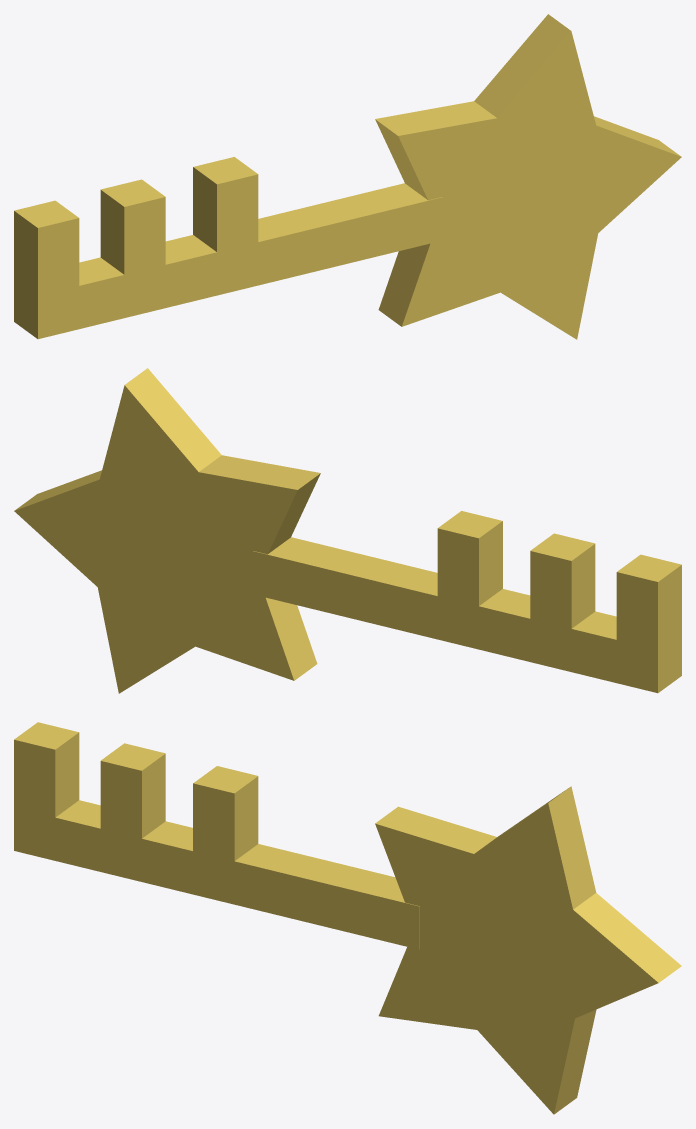
File: Key_Star_C.fbx
3 views of the same model, one above another, from view 1: azimuth 30°, elevation 25°; view 2: azimuth 150°, elevation 25°; view 3: azimuth 330°, elevation 25° (orthographic).
Visible parts, largest first — view 1: Cylinder, Cube.003, Cube.001, Cube.002, Cube; view 2: Cylinder, Cube.003, Cube, Cube.001, Cube.002; view 3: Cylinder, Cube.003, Cube.002, Cube.001, Cube.
Boxes of the visible parts, left/top/right/bottom form: Cylinder: left=375, top=14, right=681, bottom=339; Cube.003: left=54, top=183, right=443, bottom=335; Cube.001: left=100, top=179, right=165, bottom=317; Cube.002: left=193, top=157, right=258, bottom=295; Cube: left=14, top=200, right=79, bottom=339; Cylinder: left=14, top=368, right=320, bottom=693; Cube.003: left=252, top=537, right=641, bottom=682; Cube: left=616, top=554, right=681, bottom=693; Cube.001: left=530, top=533, right=595, bottom=671; Cube.002: left=437, top=511, right=502, bottom=606; Cylinder: left=375, top=786, right=681, bottom=1114; Cube.003: left=30, top=800, right=419, bottom=949; Cube.002: left=193, top=766, right=258, bottom=904; Cube.001: left=100, top=743, right=165, bottom=881; Cube: left=14, top=722, right=79, bottom=860.
Bounding box in the file's own units: 289 × 133 × 18.54.
